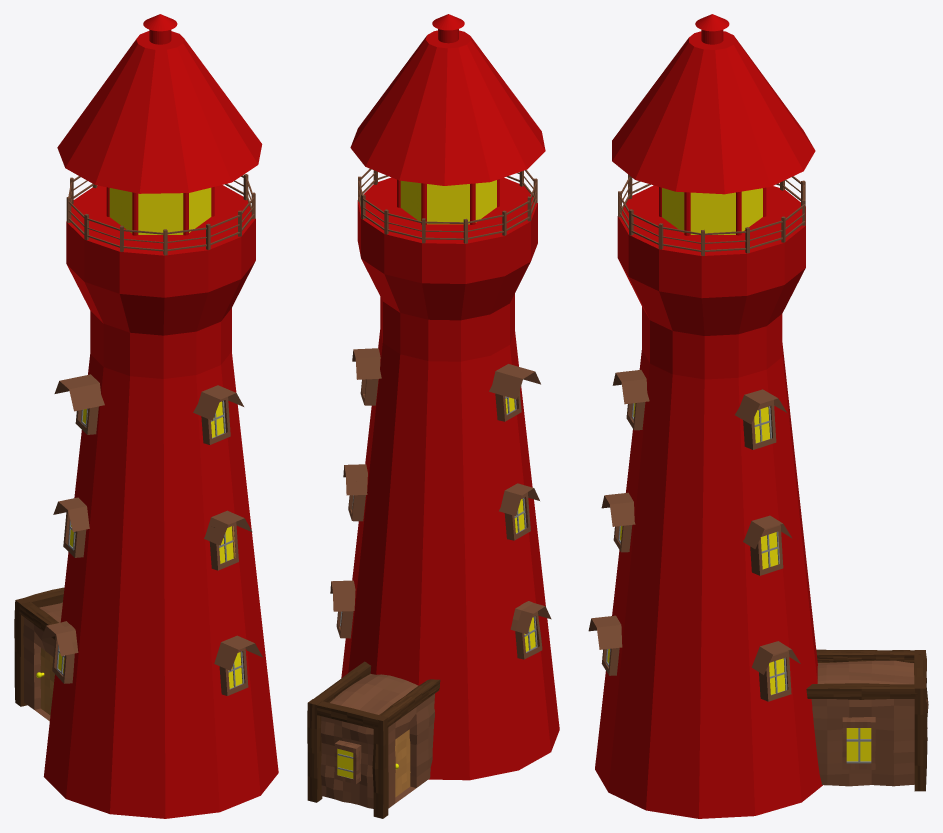
File: Present_Light_House.glb
3 renders of one model, left to right at view 1: azimuth 30°, elevation 25°; view 2: azimuth 150°, elevation 25°; view 3: azimuth 270°, elevation 25°, orthographic. The views are drawn at different scales.
Visible parts, largest first — view 1: Cylinder.001, Cylinder, Cylinder.003, Cylinder.002, Cube.148, Cylinder.017, Cube.137, Cylinder.018, Cylinder.014, Cylinder.013, Cylinder.009, Plane (+8 smaller); view 2: Cylinder.001, Cylinder, Cylinder.003, Cube.148, Cylinder.002, Cube.137, Cube.077, Cylinder.017, Cube, Cube.147, Plane, Cylinder.019 (+8 smaller); view 3: Cylinder.001, Cylinder, Cylinder.003, Cube.148, Cylinder.002, Cube.146, Cube.077, Cube, Cube.144, Cylinder.018, Cylinder.014, Cylinder.013 (+7 smaller).
Boxes of the visible parts, <box> form: Cylinder.001: <box>43,351,278,818</box>; Cylinder: <box>66,185,255,378</box>; Cylinder.003: <box>57,31,262,193</box>; Cylinder.002: <box>109,187,211,234</box>; Cube.148: <box>23,602,62,721</box>; Cylinder.017: <box>54,374,104,411</box>; Cube.137: <box>14,597,30,706</box>; Cylinder.018: <box>193,385,243,420</box>; Cylinder.014: <box>214,635,262,670</box>; Cylinder.013: <box>204,510,252,545</box>; Cylinder.009: <box>41,621,78,656</box>; Plane: <box>40,648,54,715</box>; Cylinder.001: <box>341,330,559,780</box>; Cylinder: <box>357,177,537,361</box>; Cylinder.003: <box>350,30,545,185</box>; Cube.148: <box>320,674,434,808</box>; Cylinder.002: <box>400,180,496,224</box>; Cube.137: <box>372,715,388,818</box>; Cube.077: <box>307,699,322,802</box>; Cylinder.017: <box>489,364,540,399</box>; Cube: <box>378,679,440,727</box>; Cube.147: <box>316,701,378,729</box>; Plane: <box>395,729,410,797</box>; Cylinder.019: <box>352,348,381,379</box>; Cylinder.001: <box>595,343,822,818</box>; Cylinder: <box>617,185,805,379</box>; Cylinder.003: <box>612,31,815,194</box>; Cube.148: <box>811,660,914,786</box>; Cylinder.002: <box>662,188,762,234</box>; Cube.146: <box>806,683,917,699</box>; Cube.077: <box>914,684,927,791</box>; Cube: <box>816,649,918,662</box>; Cube.144: <box>842,717,876,769</box>; Cylinder.018: <box>612,370,649,404</box>; Cylinder.014: <box>588,615,622,649</box>; Cylinder.013: <box>601,492,635,526</box>.
Size of the model in its own units: 6.51 by 22.84 by 9.29.
